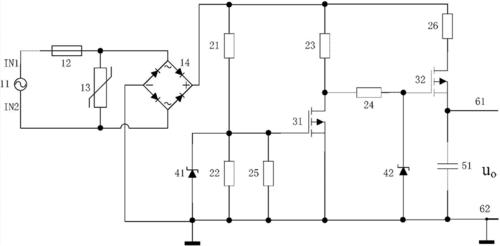bridge: (142, 57, 194, 115)
cap1: (435, 160, 460, 172)
diode: (184, 162, 202, 182), (395, 161, 412, 179)
power1: (11, 74, 28, 95)
res1: (86, 63, 113, 112), (47, 44, 86, 58), (317, 29, 332, 62), (439, 11, 455, 41), (354, 85, 384, 100), (222, 29, 236, 61), (261, 159, 275, 189), (222, 158, 236, 187)
triode: (305, 104, 329, 139), (427, 64, 451, 98)
